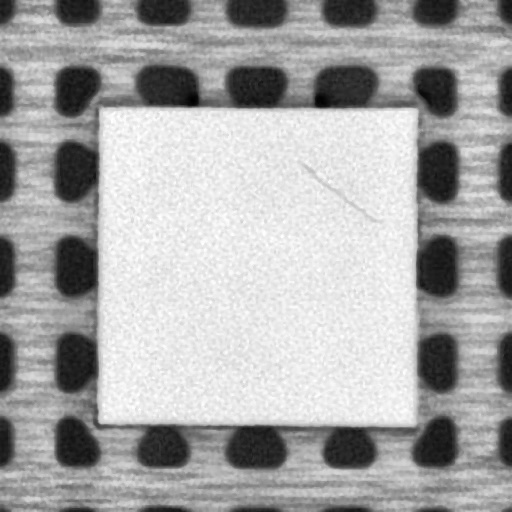DIE_CRACK: (302, 162, 381, 224)
